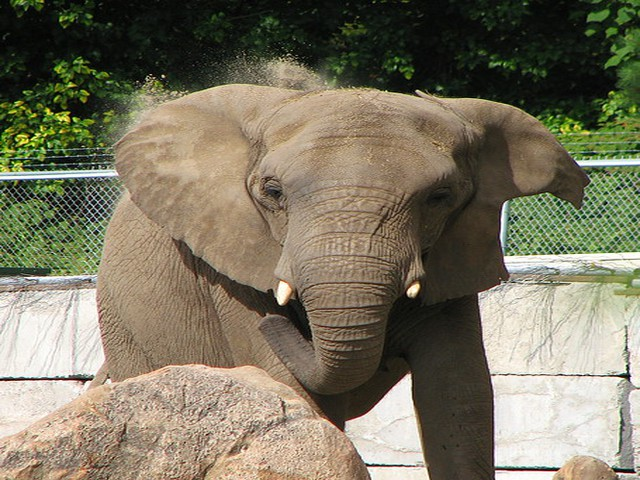Elephant: (93, 76, 593, 391)
